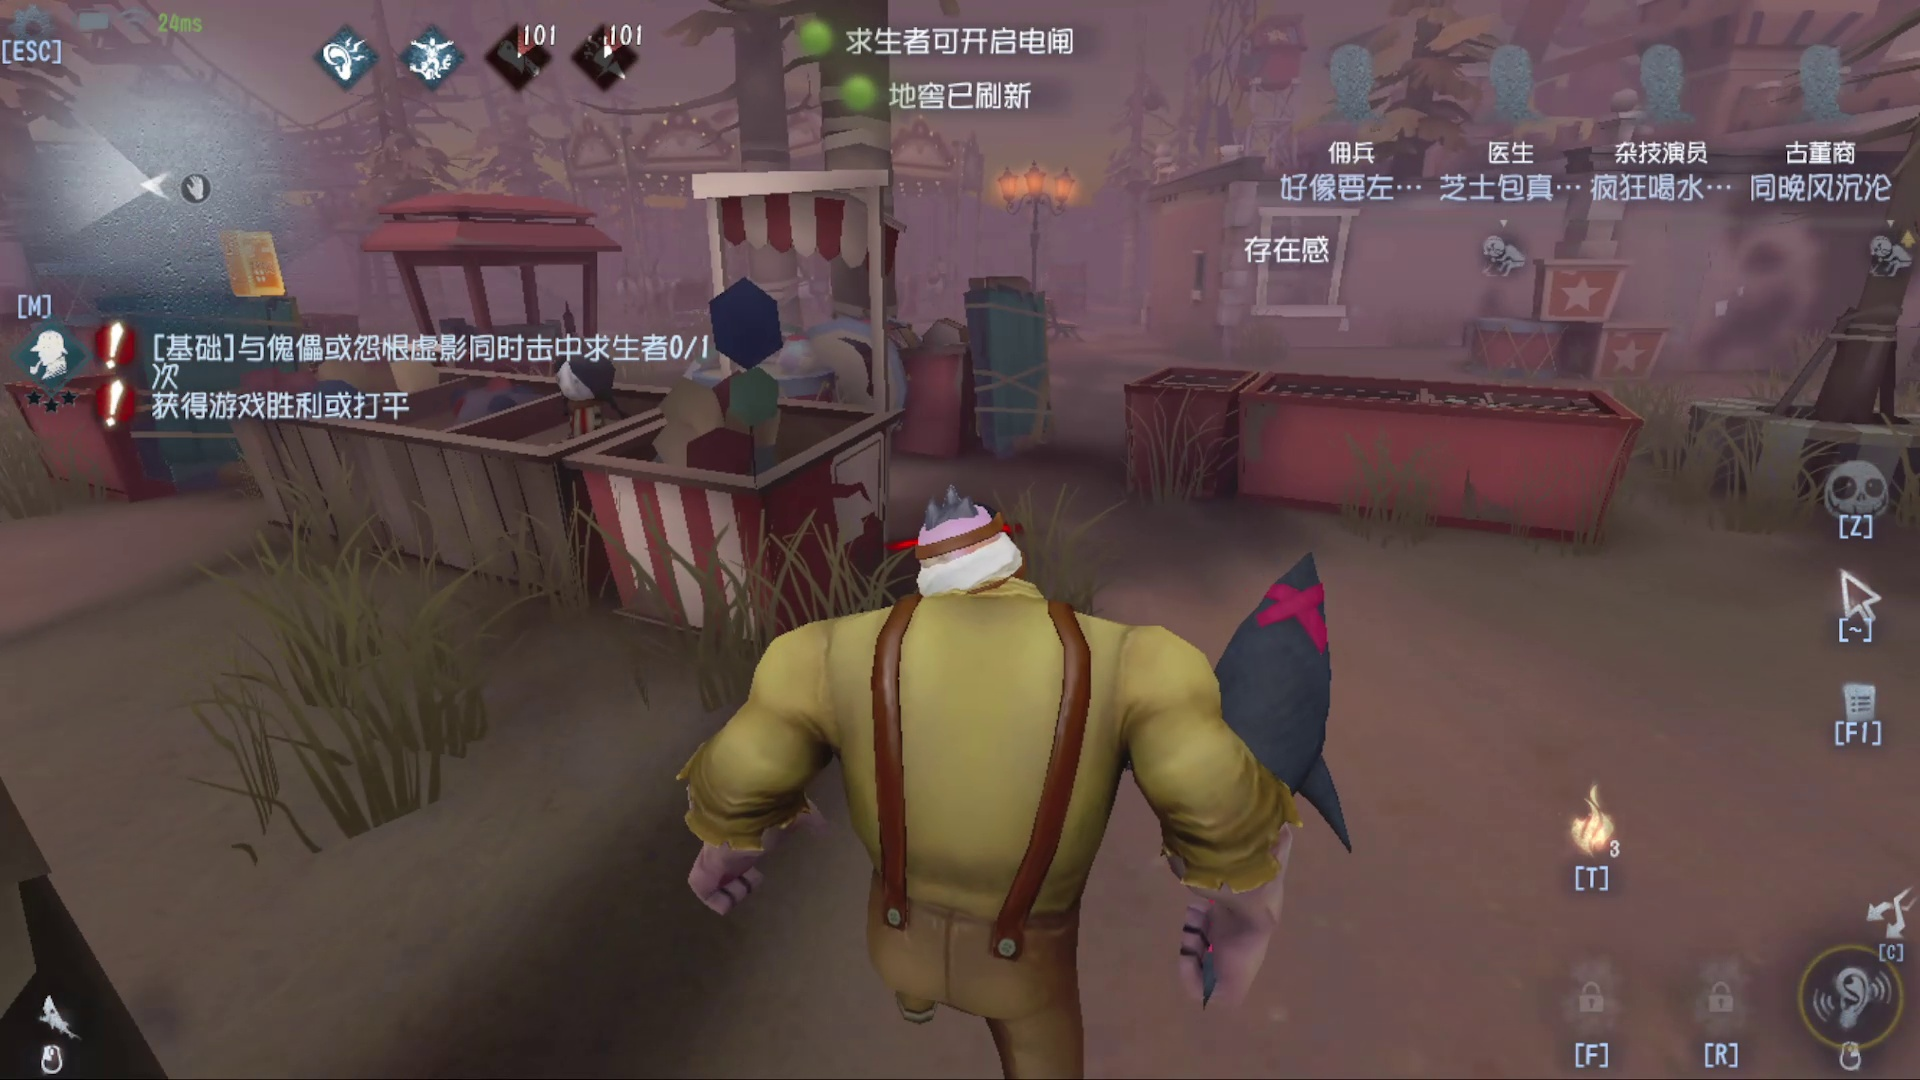木板: (82, 282, 363, 505), (963, 272, 1079, 471)
